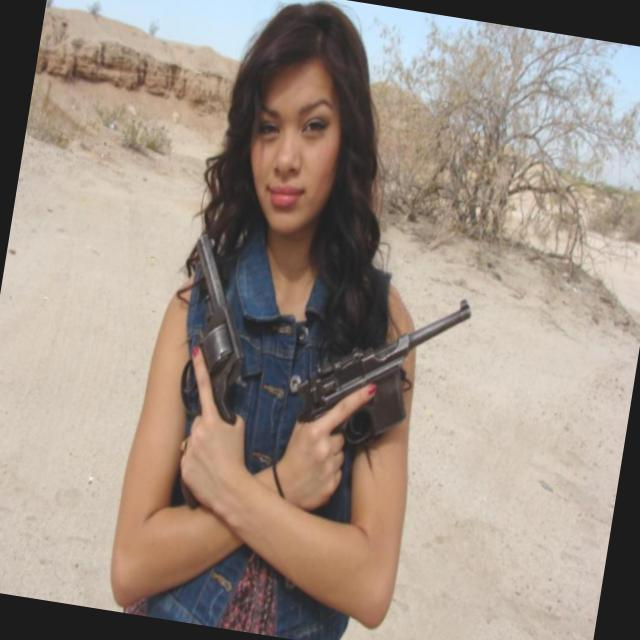handgun: (289, 274, 478, 468), (153, 228, 271, 516)
